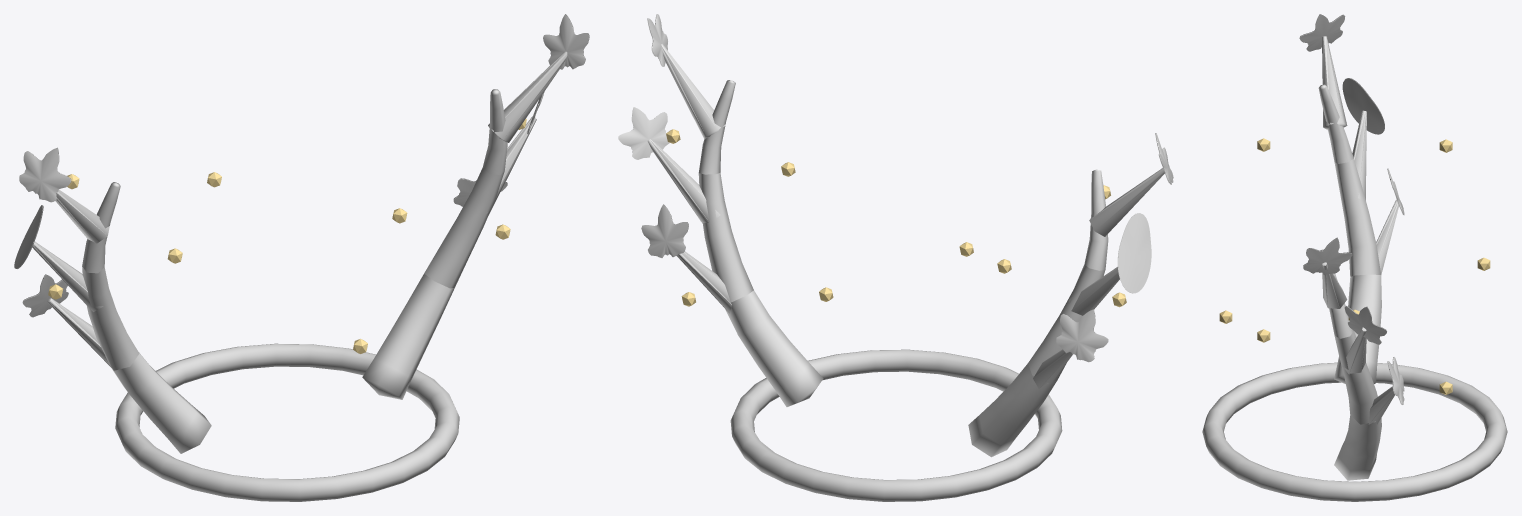
The model's file is AntlerCirclet.glb.
3 views of the same model, side by side, from view 1: azimuth 30°, elevation 25°; view 2: azimuth 150°, elevation 25°; view 3: azimuth 270°, elevation 25° (orthographic). The views are drawn at different scales.
Visible parts, largest first — view 1: AntlerOrange, AntlerOrange3, AntlerOrange2, Leaf2, Leaf, Glow, Leaf3; view 2: AntlerOrange, AntlerOrange3, AntlerOrange2, Leaf, Leaf2, Leaf3, Leaf4, Glow; view 3: AntlerOrange, AntlerOrange3, AntlerOrange2, Leaf, Leaf2, Glow, Leaf4.
Part boxes in pixels (<box>): AntlerOrange: <box>33,54,567,501</box>; AntlerOrange3: <box>111,274,454,453</box>; AntlerOrange2: <box>32,51,567,367</box>; Leaf2: <box>19,147,507,206</box>; Leaf: <box>14,14,589,268</box>; Glow: <box>48,119,526,353</box>; Leaf3: <box>22,274,68,317</box>; AntlerOrange: <box>649,45,1164,501</box>; AntlerOrange3: <box>725,290,1057,457</box>; AntlerOrange2: <box>647,44,1164,387</box>; Leaf: <box>647,14,1151,293</box>; Leaf2: <box>641,133,1173,257</box>; Leaf3: <box>1056,309,1108,362</box>; Leaf4: <box>618,107,669,159</box>; Glow: <box>666,129,1126,307</box>; AntlerOrange: <box>1202,37,1507,501</box>; AntlerOrange3: <box>1334,274,1381,480</box>; AntlerOrange2: <box>1318,36,1398,424</box>; Leaf: <box>1303,78,1384,274</box>; Leaf2: <box>1299,14,1404,404</box>; Glow: <box>1219,138,1490,394</box>; Leaf4: <box>1344,306,1386,344</box>.
Bounding box in the file's own units: 2.62 × 1.64 × 1.42.
